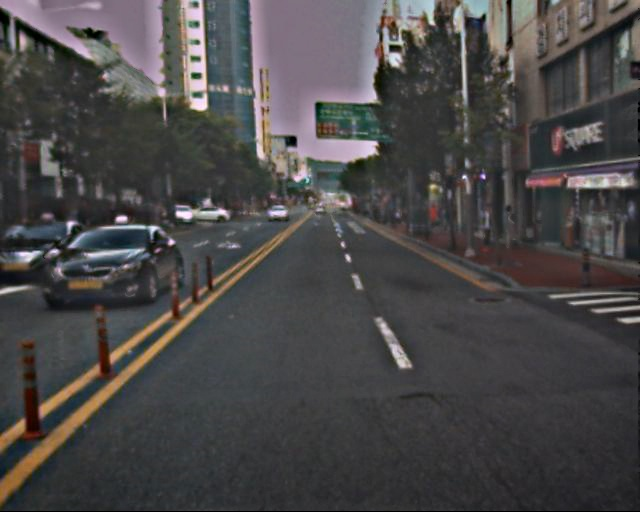person: (501, 202, 522, 253), (477, 205, 498, 256)
